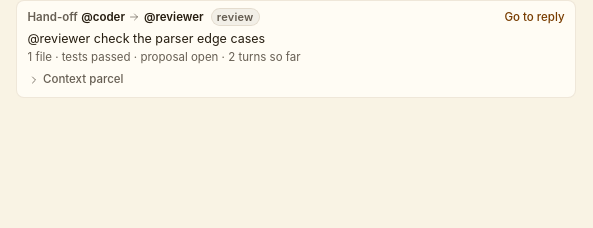
Test case: hand-off cards › shows what, where and how good, and opens the parcel
Expected: the button "Go to reply" is shown, x1=504 y1=9 x2=564 y2=25
Expected: the text "1 file · tests passed · proposal open · 2 turns so far" is shown, x1=28 y1=50 x2=301 y2=64
Step 1. Click the button "Context parcel" → (76, 80), box x1=28 y1=71 x2=124 y2=88
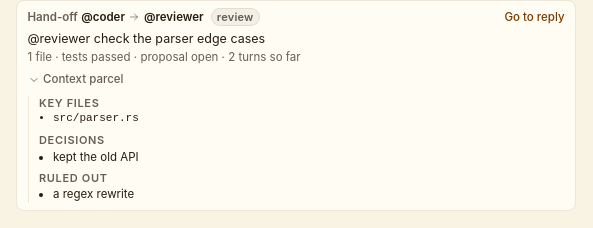
Expected: the list item "a regex rewrite" is shown, x1=53 y1=188 x2=134 y2=202
